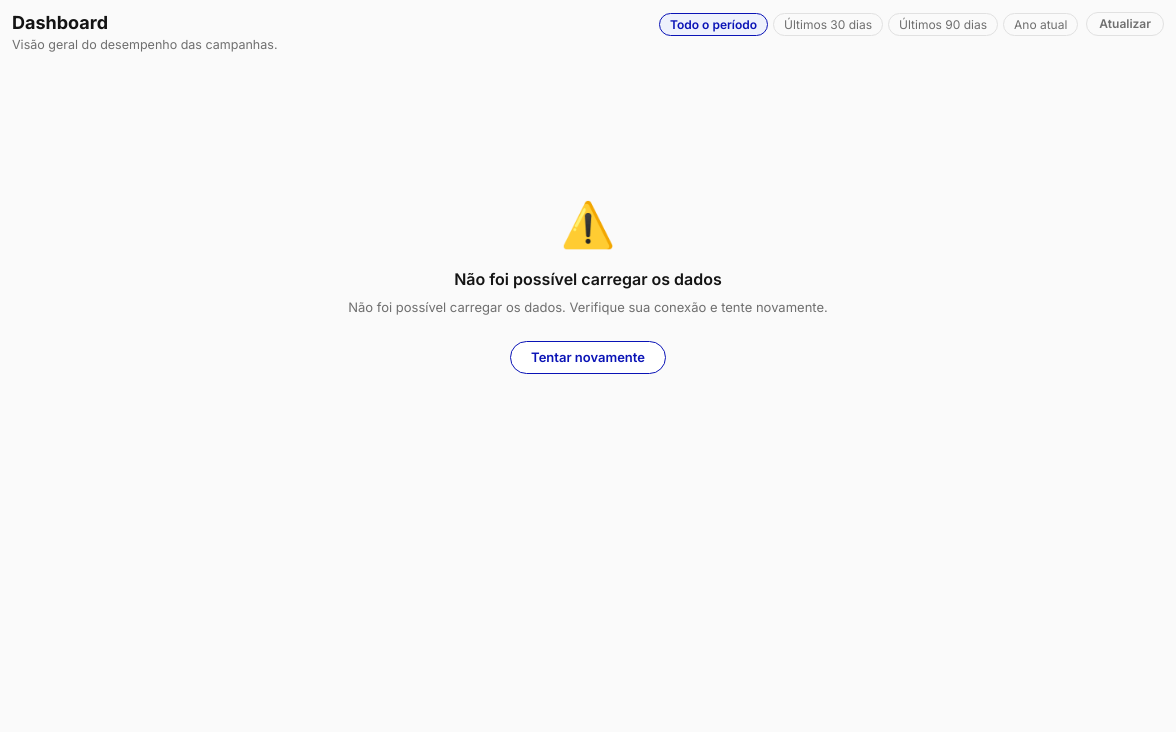
Test: DashboardScreen › mostra erro e permite tentar novamente
Expected: the message shows "Não foi possível carregar os dados.", x1=348 y1=299 x2=828 y2=315
Click the button "Tentar novamente" at (588, 358), box x1=510 y1=341 x2=666 y2=374
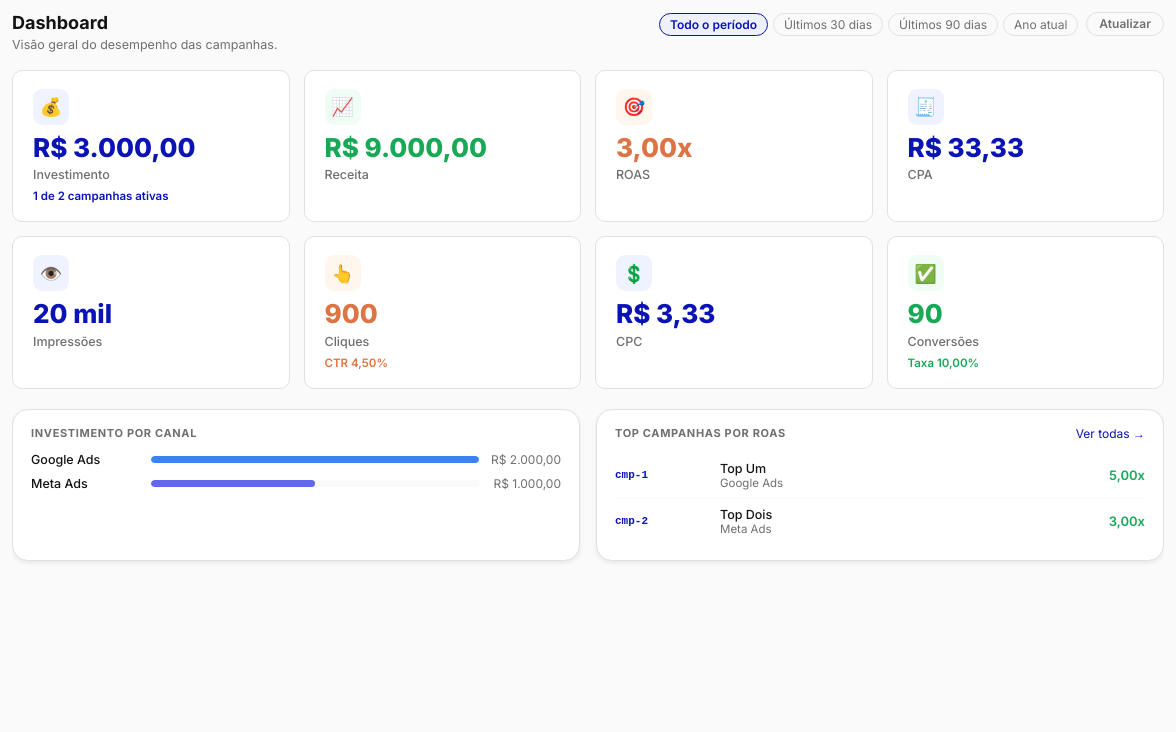
Expected: the text "Top Um" is shown, x1=720 y1=461 x2=766 y2=476
